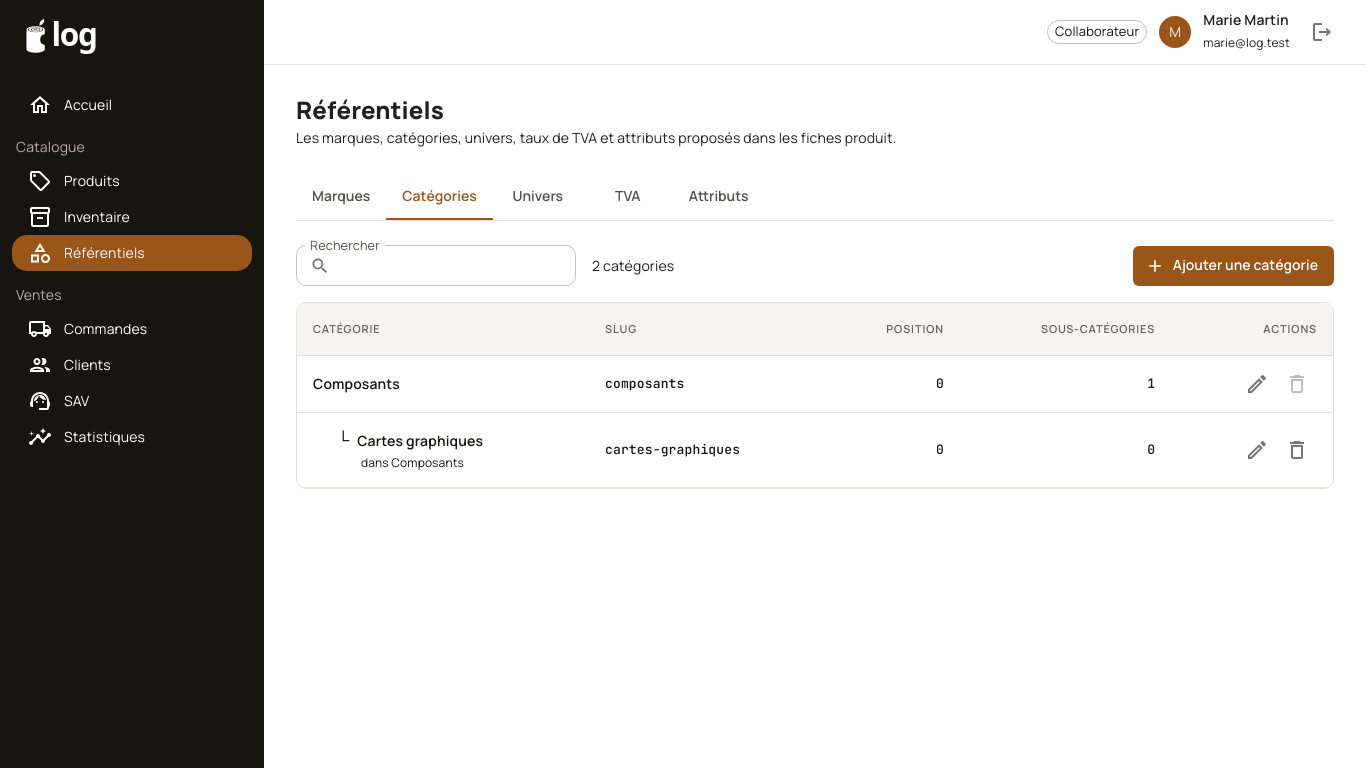
the reference lists (C19) › keeps the open tab in the address, and locks the delete of a parent category
This screenshot has width=1366, height=768.
Check: the tab "Catégories" is shown, box x1=386 y1=172 x2=493 y2=220
Check: the button named "Supprimer Composants" is disabled, box x1=1277 y1=364 x2=1317 y2=404
Note: Une categorie ne peut pas etre rangee sous elle-meme ni sous sa branche.
Click the button named "Modifier Composants": (1257, 384) x1=1237 y1=364 x2=1277 y2=404
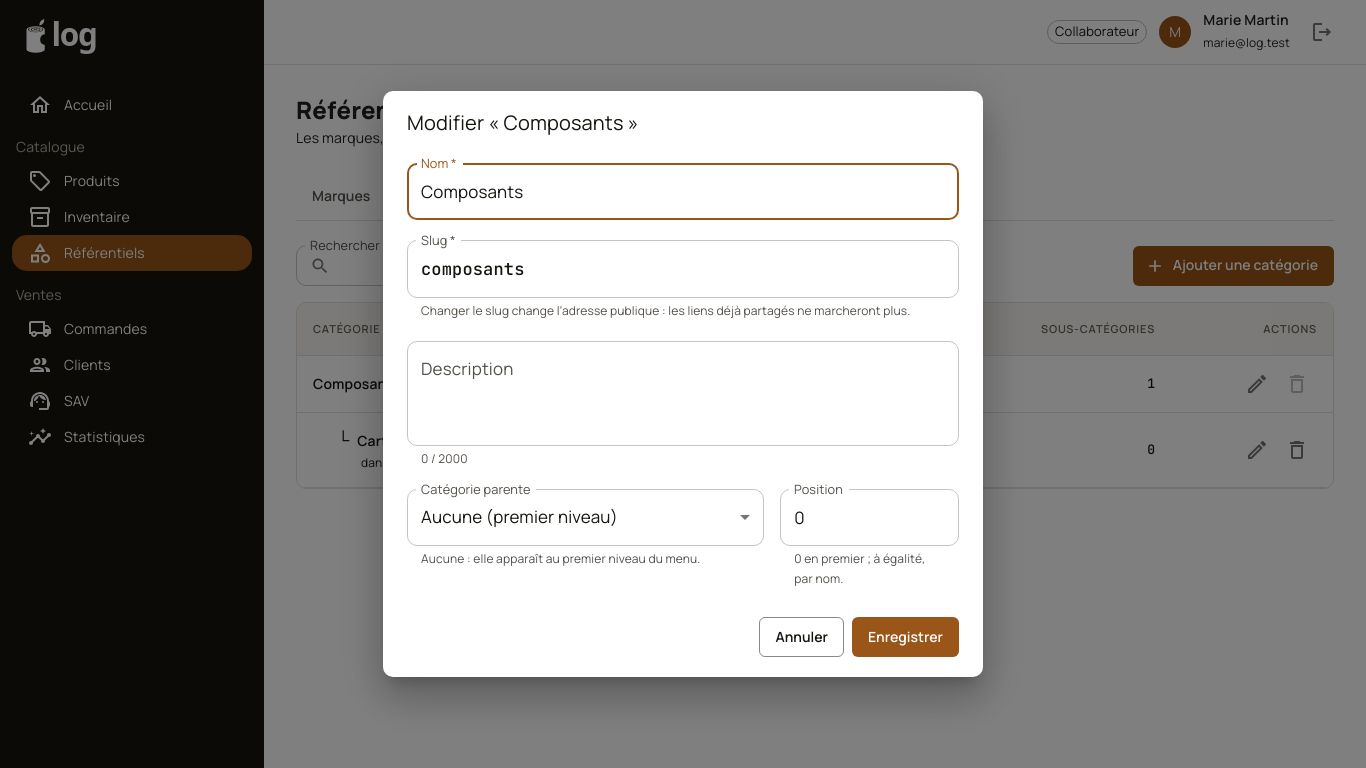
Click the dropdown named "Catégorie parente": (519, 517) x1=421 y1=505 x2=618 y2=528
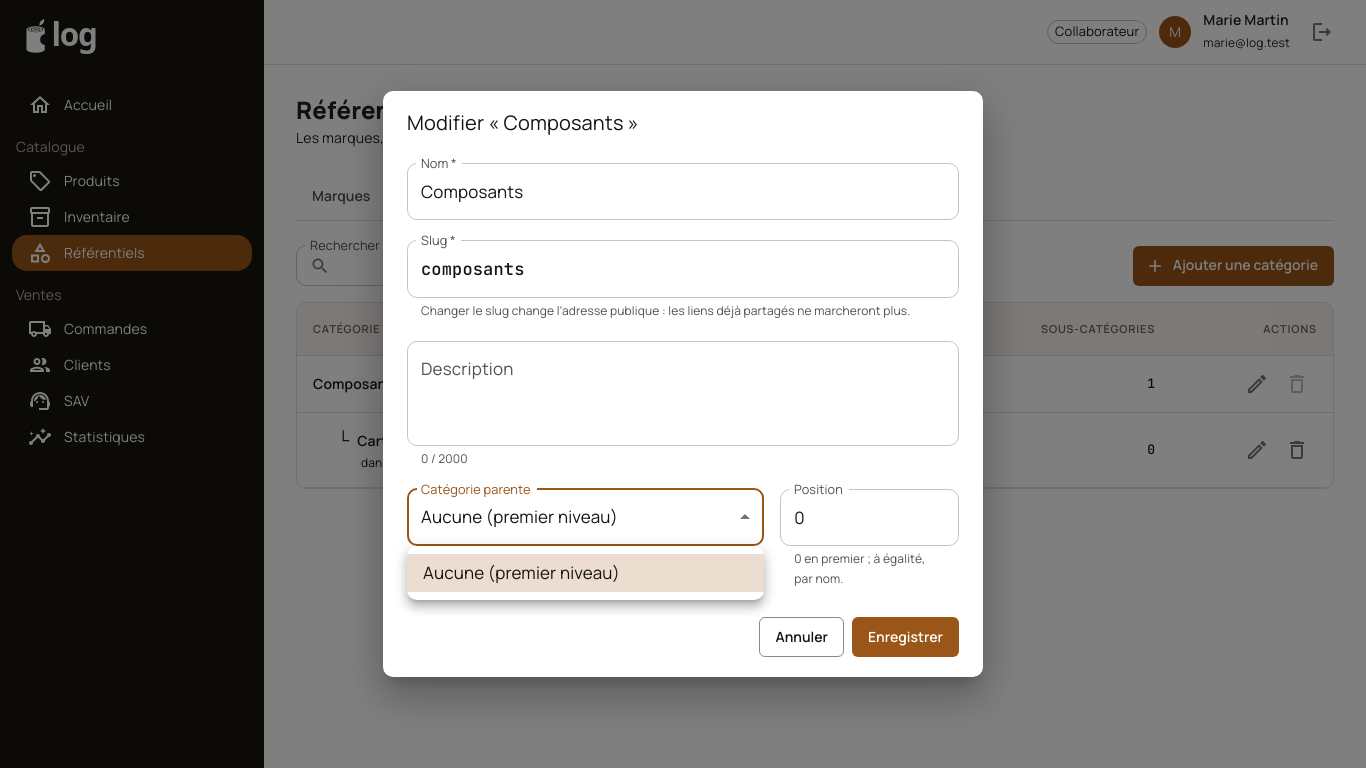
Check: the options read "Aucune (premier niveau)", in this order, box x1=407 y1=554 x2=764 y2=592
